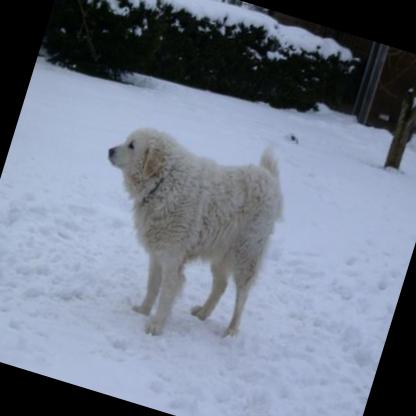kuvasz: (56, 100, 308, 368)
